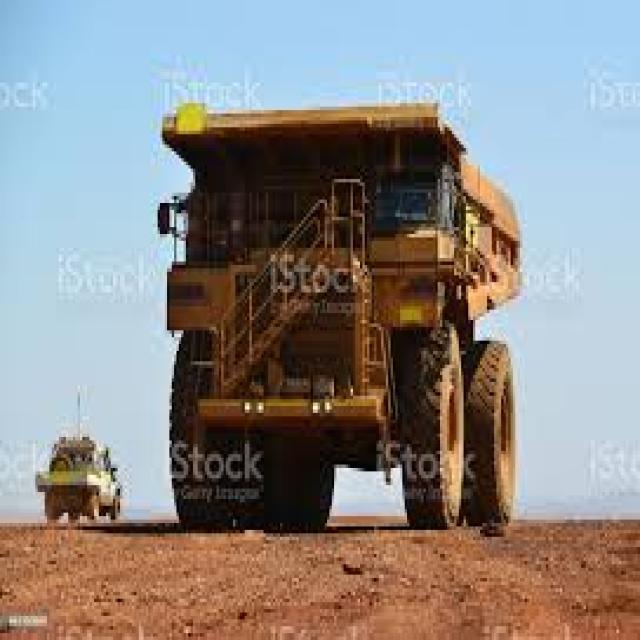dump_truck: (141, 82, 541, 536)
light_vehicle: (16, 419, 132, 544)
